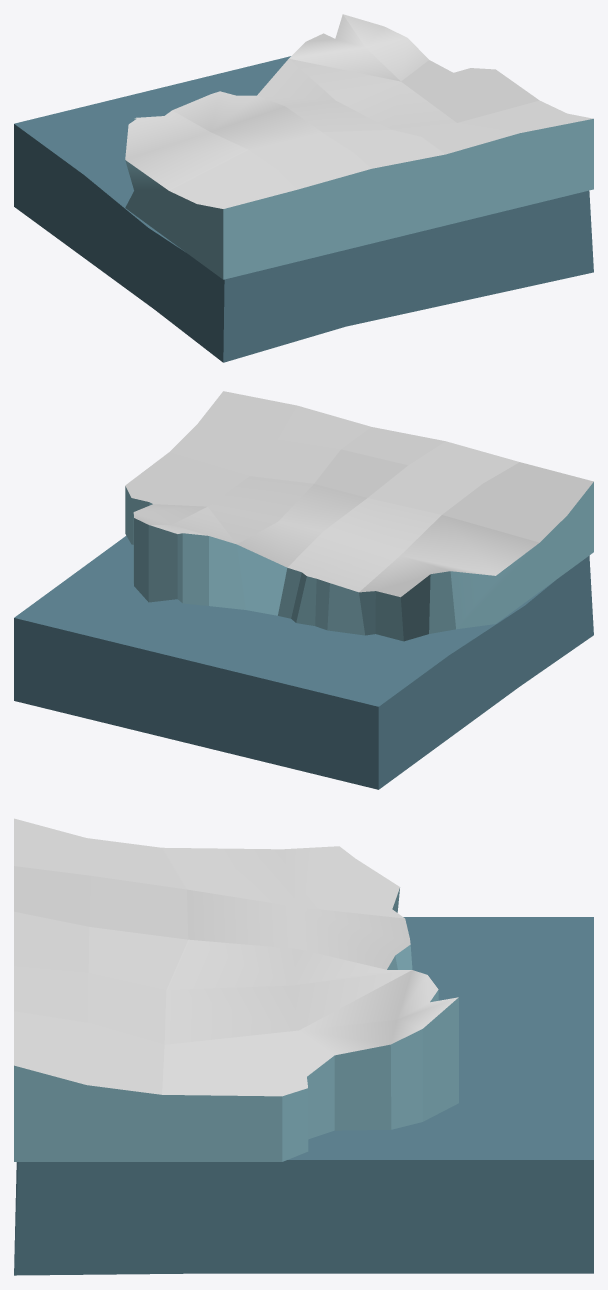
Rendered from iceberg01.fbx.
3 renders of one model, top to bottom at view 1: azimuth 30°, elevation 25°; view 2: azimuth 150°, elevation 25°; view 3: azimuth 270°, elevation 25°, orthographic. The views are drawn at different scales.
Visible parts, largest first — view 1: nature_artic_terrain; view 2: nature_artic_terrain; view 3: nature_artic_terrain.
Part boxes in pixels (box(x1,y1,x2,y2)): nature_artic_terrain: box(14, 14, 593, 362); nature_artic_terrain: box(14, 391, 593, 789); nature_artic_terrain: box(14, 818, 593, 1275).
Bounding box in the file's own units: 20.16 × 8.28 × 19.84.
